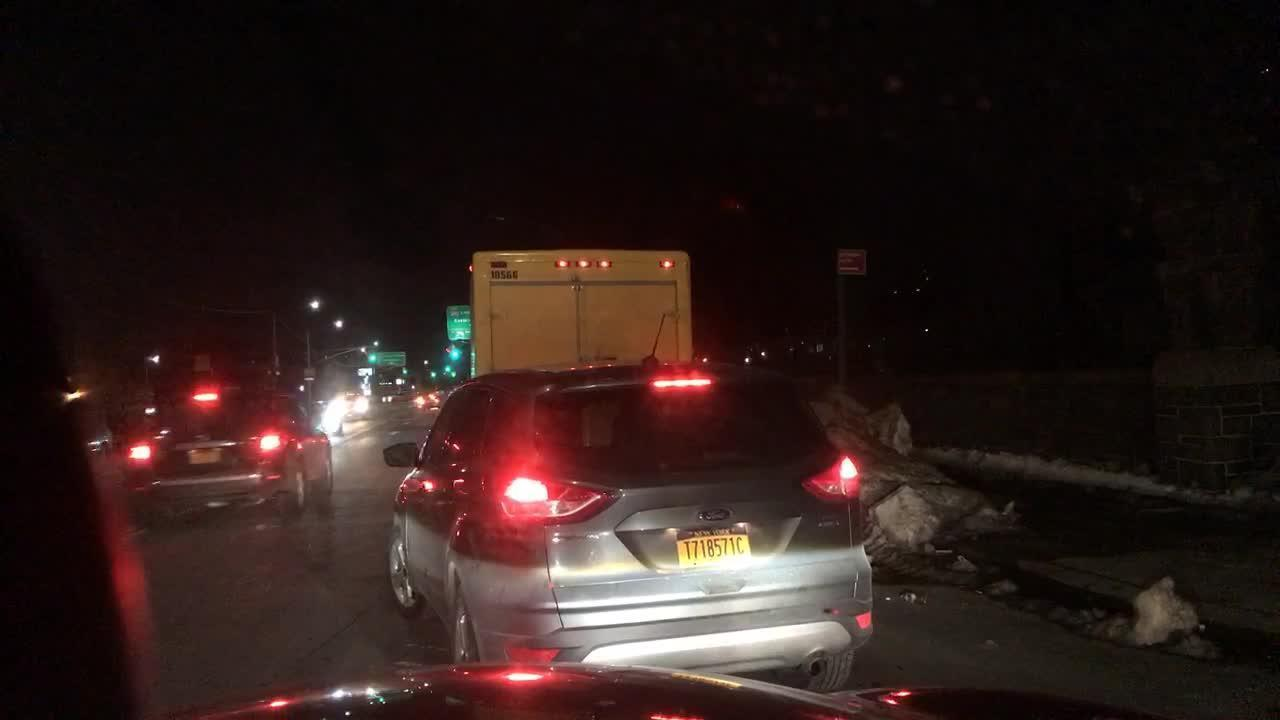ford: (698, 507, 733, 523)
